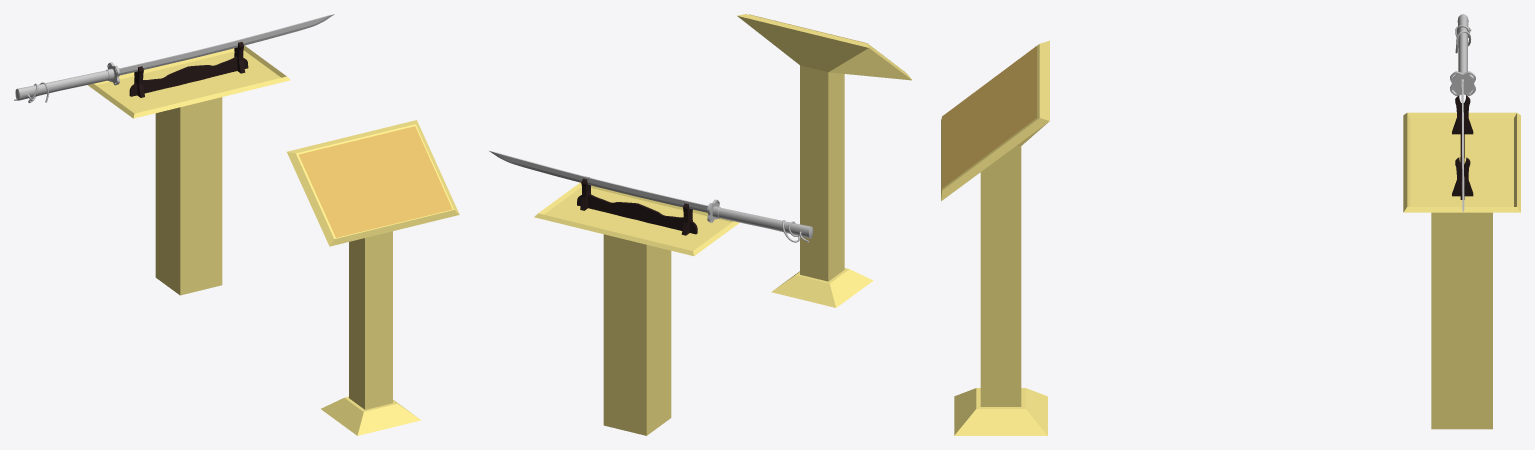
File: katana.fbx
3 renders of one model, left to right at view 1: azimuth 30°, elevation 25°; view 2: azimuth 150°, elevation 25°; view 3: azimuth 270°, elevation 25°, orthographic. The views are drawn at different scales.
Parts seen in each view (by area): view 1: Writing, pedestal, katana; view 2: pedestal, Writing, katana; view 3: pedestal, Writing, katana.
Part boxes in pixels (x1=…): Writing: x1=287, y1=120, x2=459, y2=435; pedestal: x1=88, y1=42, x2=290, y2=295; katana: x1=14, y1=14, x2=334, y2=103; pedestal: x1=534, y1=177, x2=739, y2=435; Writing: x1=737, y1=14, x2=911, y2=307; katana: x1=489, y1=151, x2=813, y2=242; pedestal: x1=1403, y1=95, x2=1520, y2=429; Writing: x1=941, y1=40, x2=1049, y2=435; katana: x1=1450, y1=14, x2=1475, y2=212.
Bounding box in the file's own units: 550 × 437 × 684.
